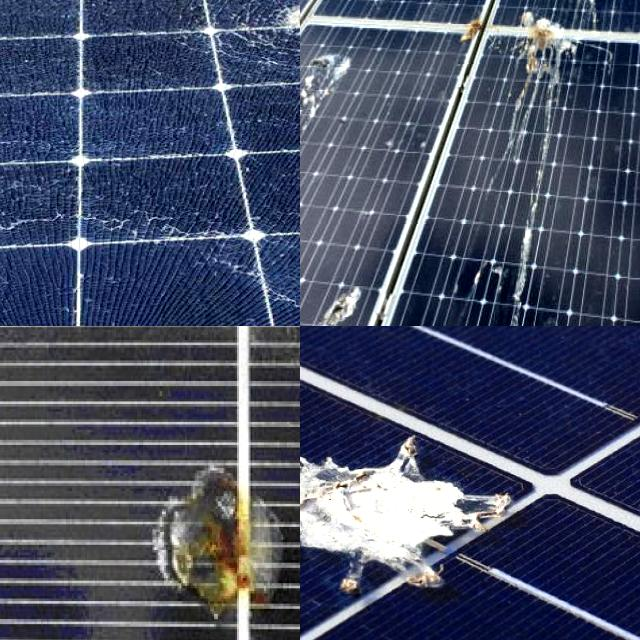bird: (300, 425, 516, 607), (514, 15, 592, 88), (300, 40, 346, 151), (304, 277, 367, 326), (452, 0, 493, 57), (523, 0, 586, 30), (605, 0, 640, 26), (569, 0, 594, 36), (362, 0, 403, 19), (453, 0, 487, 22), (300, 221, 316, 265), (481, 0, 505, 23), (599, 0, 630, 15), (454, 0, 474, 18)
shadow: (136, 374, 298, 640), (0, 495, 76, 640)
